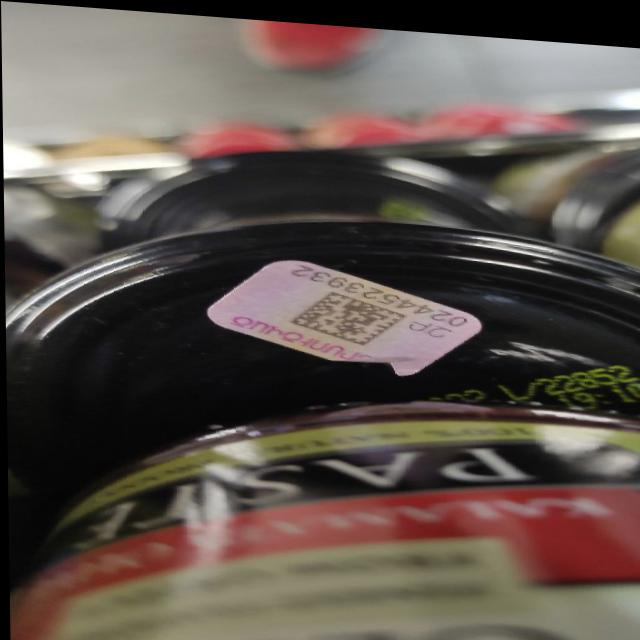datamatrix: (287, 283, 408, 344)
